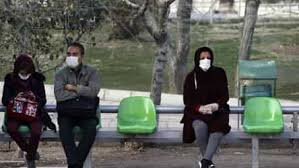mask: (198, 47, 216, 73), (65, 44, 83, 66), (15, 64, 33, 81)
